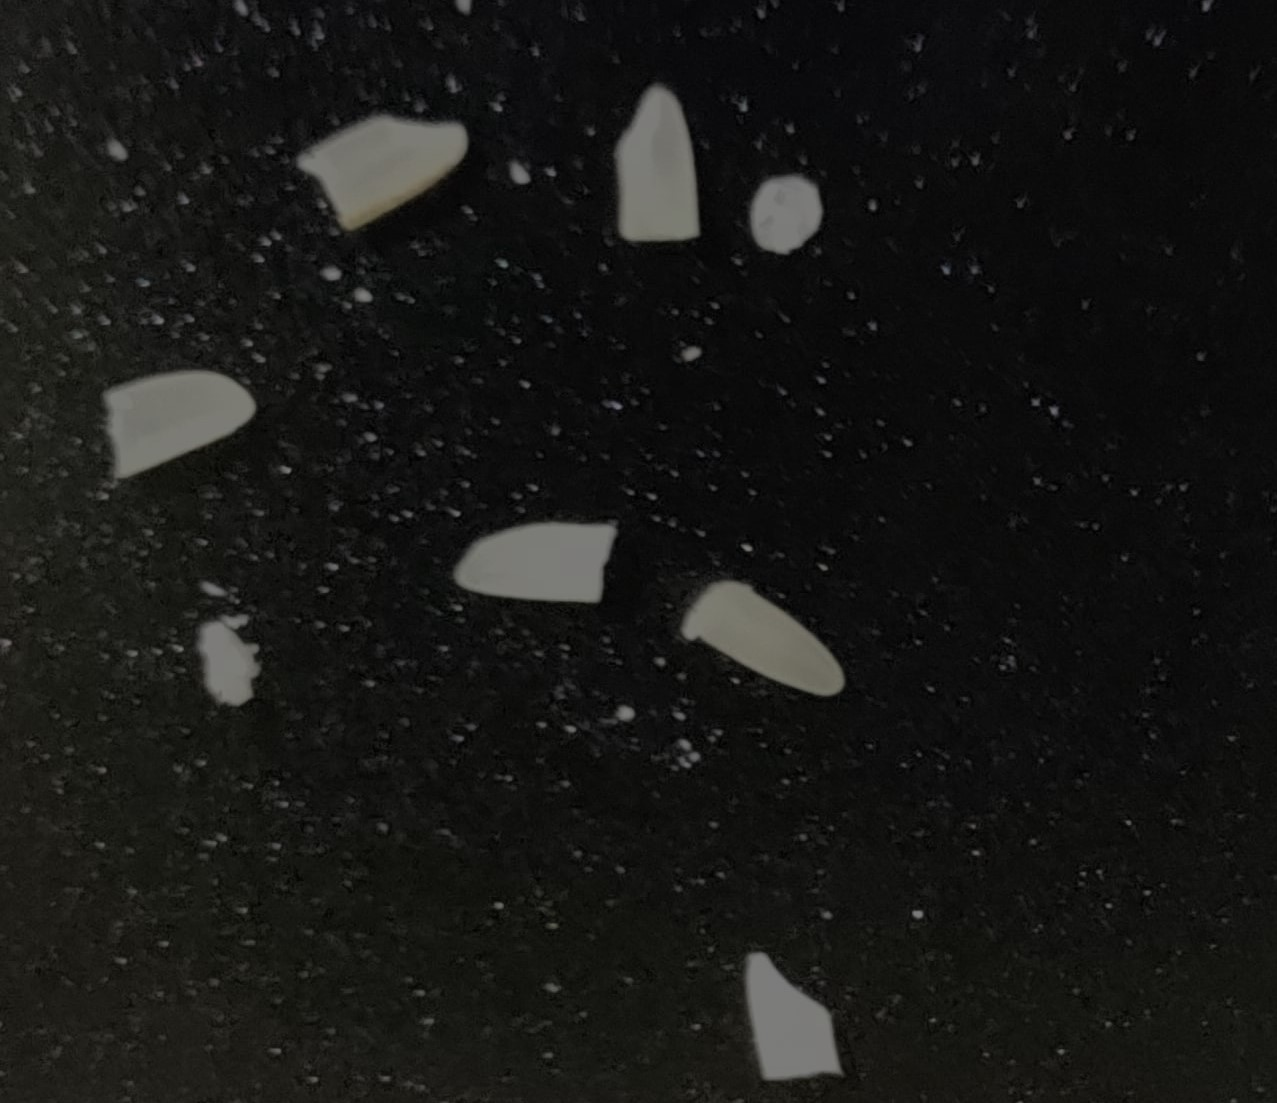broken_grain: (676, 560, 859, 717), (451, 511, 624, 645), (300, 107, 472, 241), (92, 362, 261, 485), (609, 80, 707, 257), (735, 945, 857, 1086), (744, 170, 835, 271)
